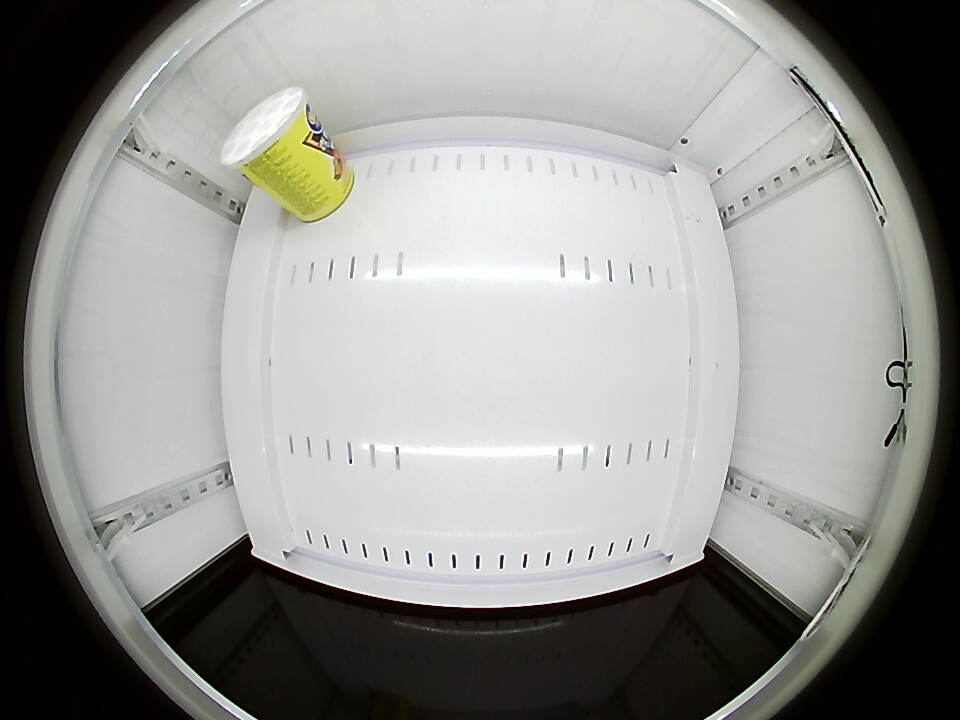kebike: (220, 86, 318, 182)
